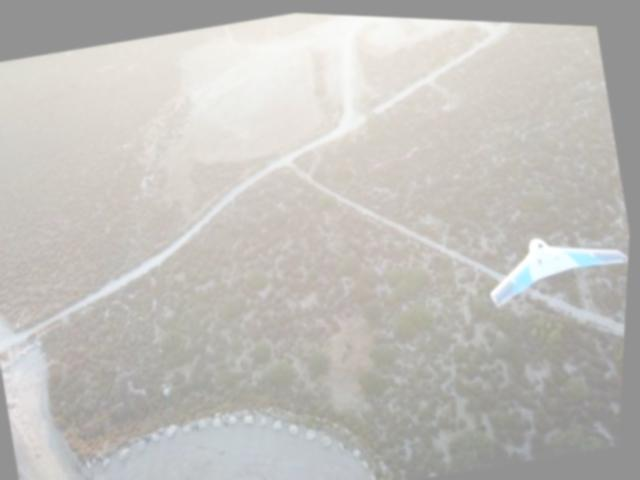iha: (478, 206, 632, 309)
